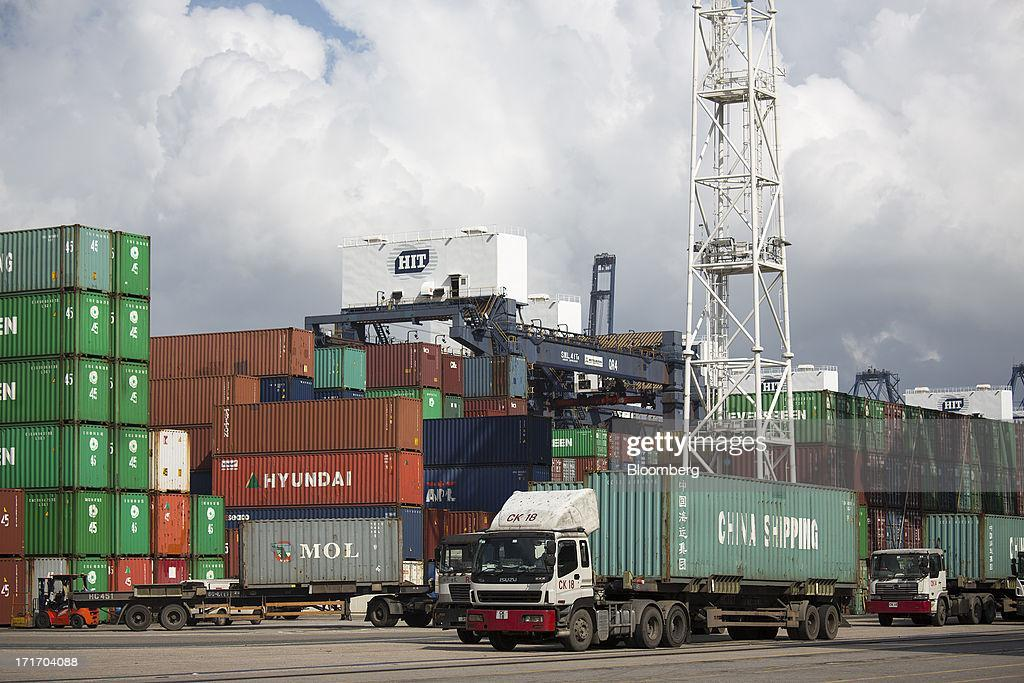truck: (464, 463, 863, 649)
